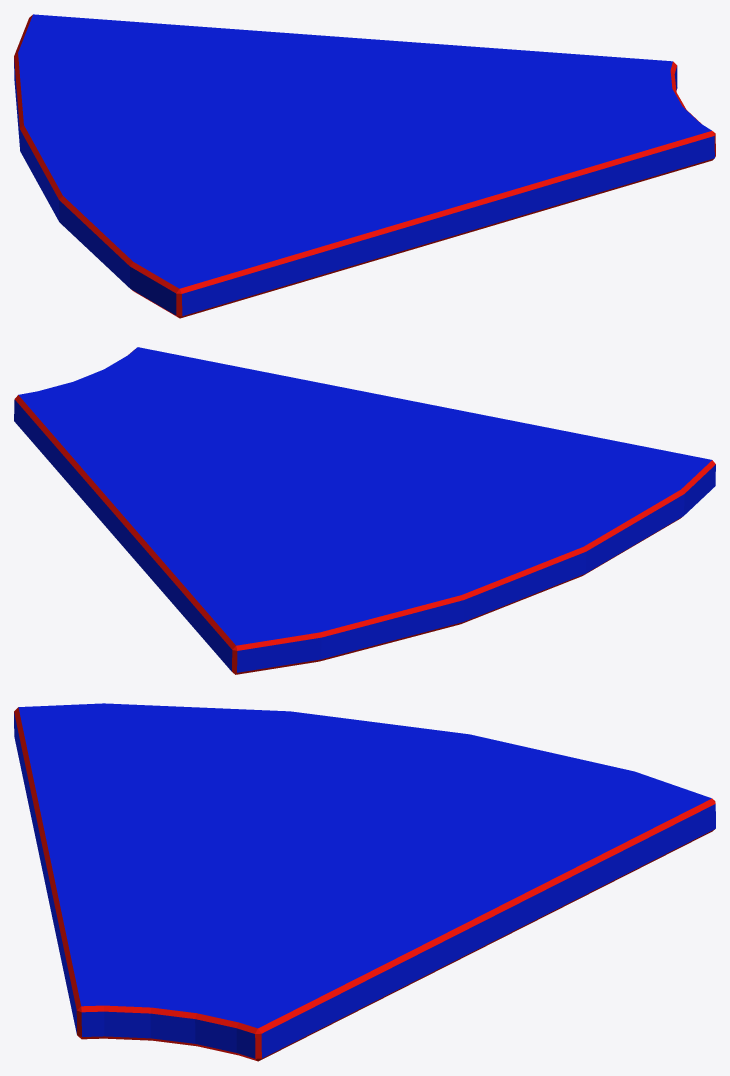
File: L9_Sphere_Platform.fbx
3 views of the same model, one above another, from view 1: azimuth 30°, elevation 25°; view 2: azimuth 150°, elevation 25°; view 3: azimuth 270°, elevation 25° (orthographic). The views are drawn at different scales.
Parts seen in each view (by area): view 1: L9_Sphere_Platform; view 2: L9_Sphere_Platform; view 3: L9_Sphere_Platform.
Boxes of the visible parts, box(x1,y1,x2,y2) form: L9_Sphere_Platform: box(14, 14, 715, 318); L9_Sphere_Platform: box(14, 347, 715, 674); L9_Sphere_Platform: box(14, 703, 715, 1061).
Size of the model in its own units: 860 by 40 by 776.
